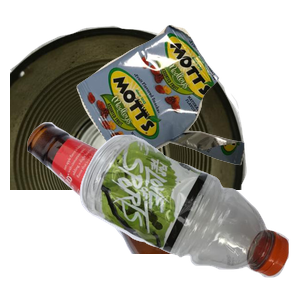glass: (25, 120, 265, 300)
metal: (10, 23, 250, 203)
plastic: (77, 132, 300, 300)
trash: (74, 22, 300, 185)
